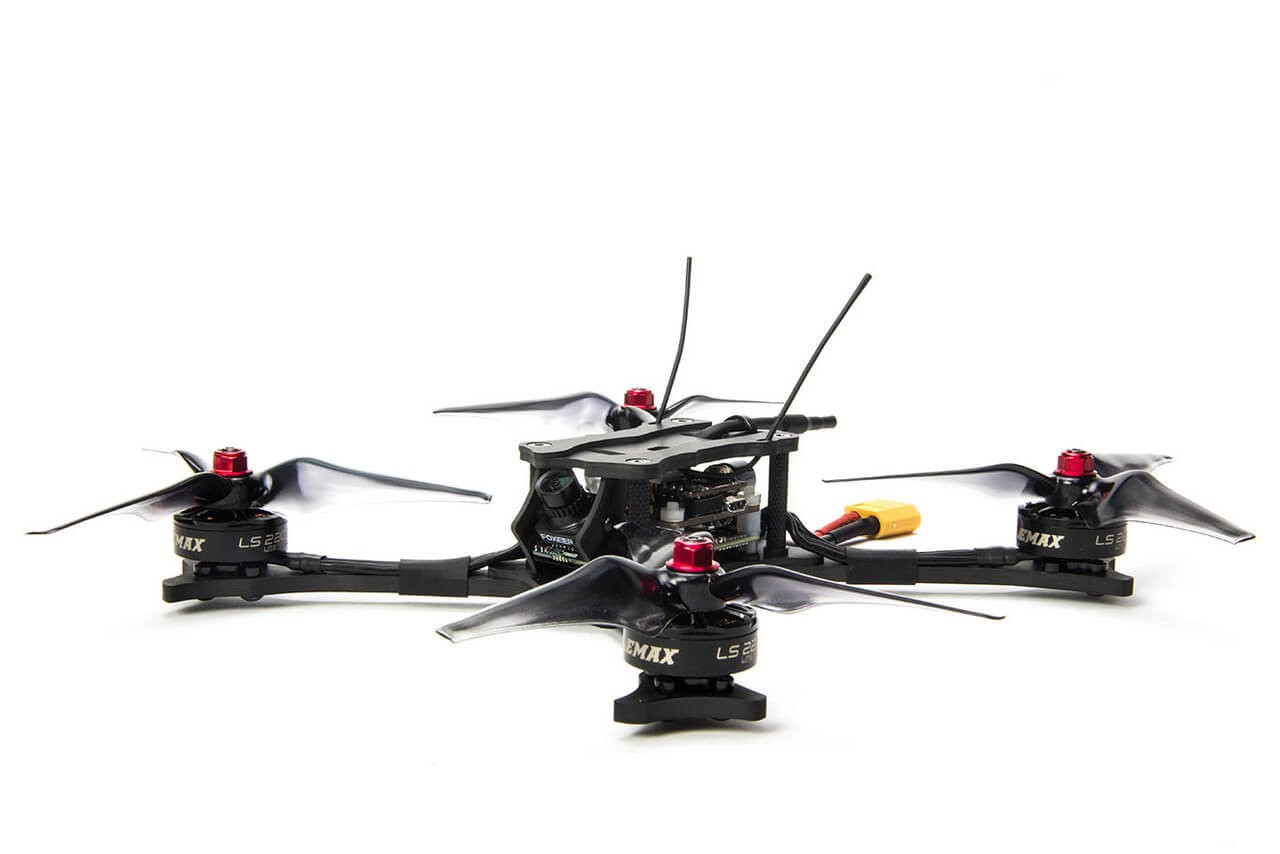drone: (17, 248, 1263, 749)
